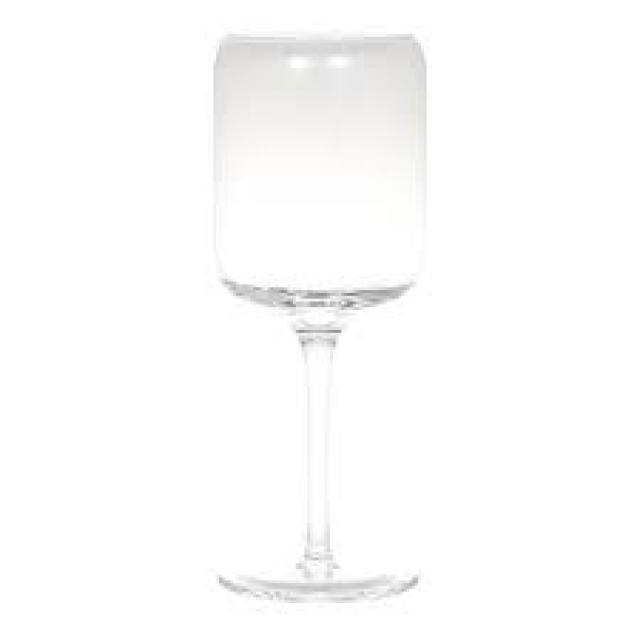glass: (210, 32, 421, 598)
